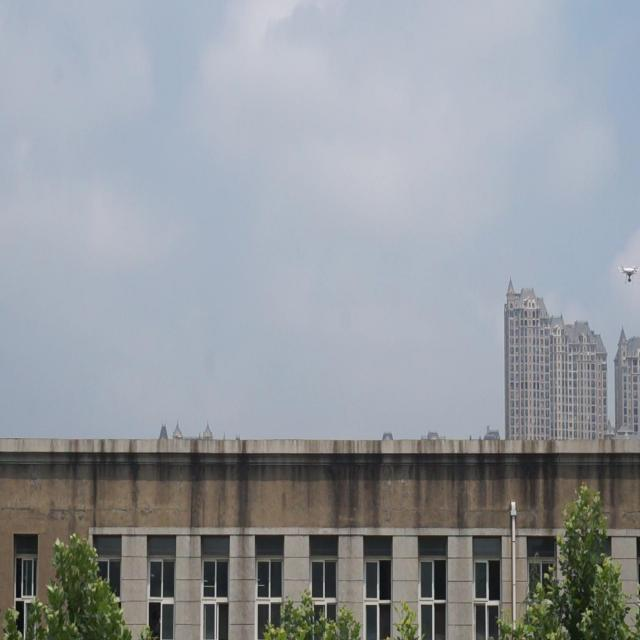UAV: (617, 264, 640, 284)
